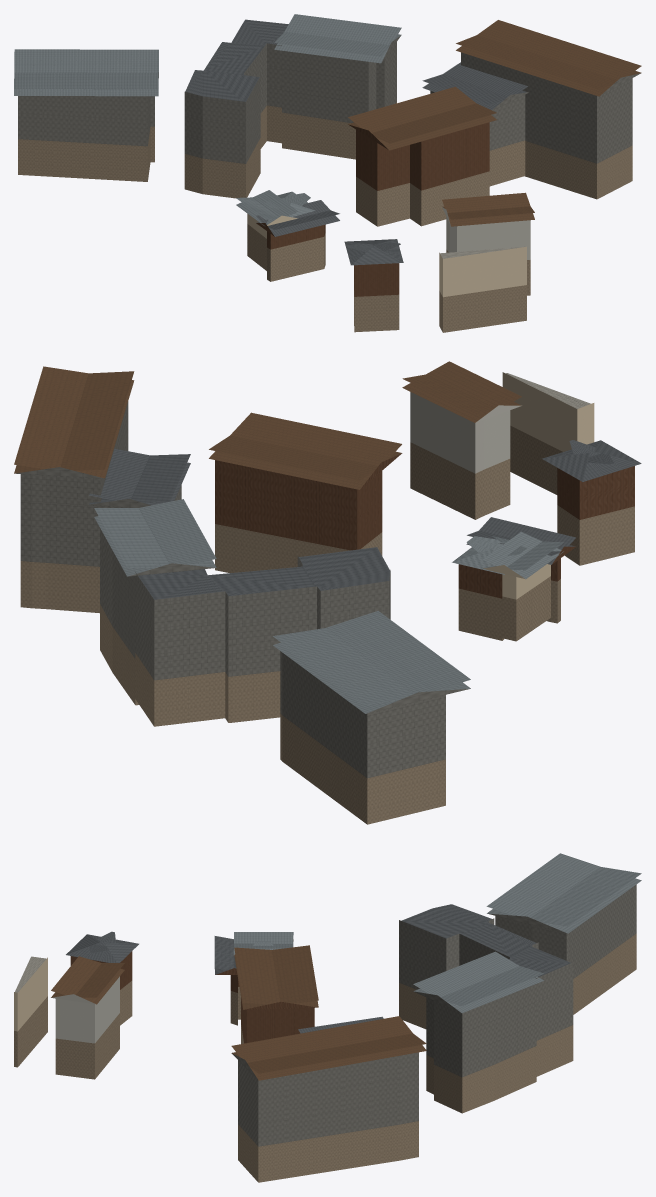
File: bld_c40_33_293.gltf
The picture shows the model from 3 angles, top to bottom: view 1: azimuth 30°, elevation 25°; view 2: azimuth 150°, elevation 25°; view 3: azimuth 270°, elevation 25°; orthographic projection. The views are drawn at different scales.
Visible parts, largest first — view 1: bld_c40_33_293; view 2: bld_c40_33_293; view 3: bld_c40_33_293.
Boxes of the visible parts, left/top/right/bottom form: bld_c40_33_293: left=14, top=14, right=641, bottom=332; bld_c40_33_293: left=14, top=361, right=641, bottom=824; bld_c40_33_293: left=14, top=853, right=641, bottom=1182.
Bounding box in the file's own units: 71.64 × 16.3 × 80.55.
Materials: 13 (13 with a texture image).
